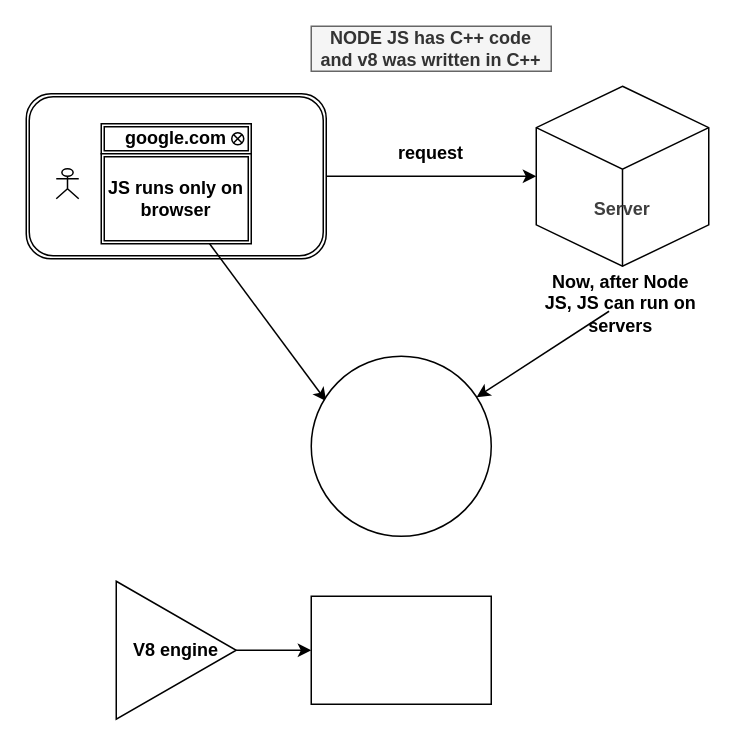
Some shapes in this 735 by 746 pixel diagram are drawn without their labels. Each missing label, with the centre of its shape:
Client: pixel 67 183
converts JS code into machine code: pixel 400 649
Now, a single developer can be a fullstack with help of Node JS: pixel 400 445
